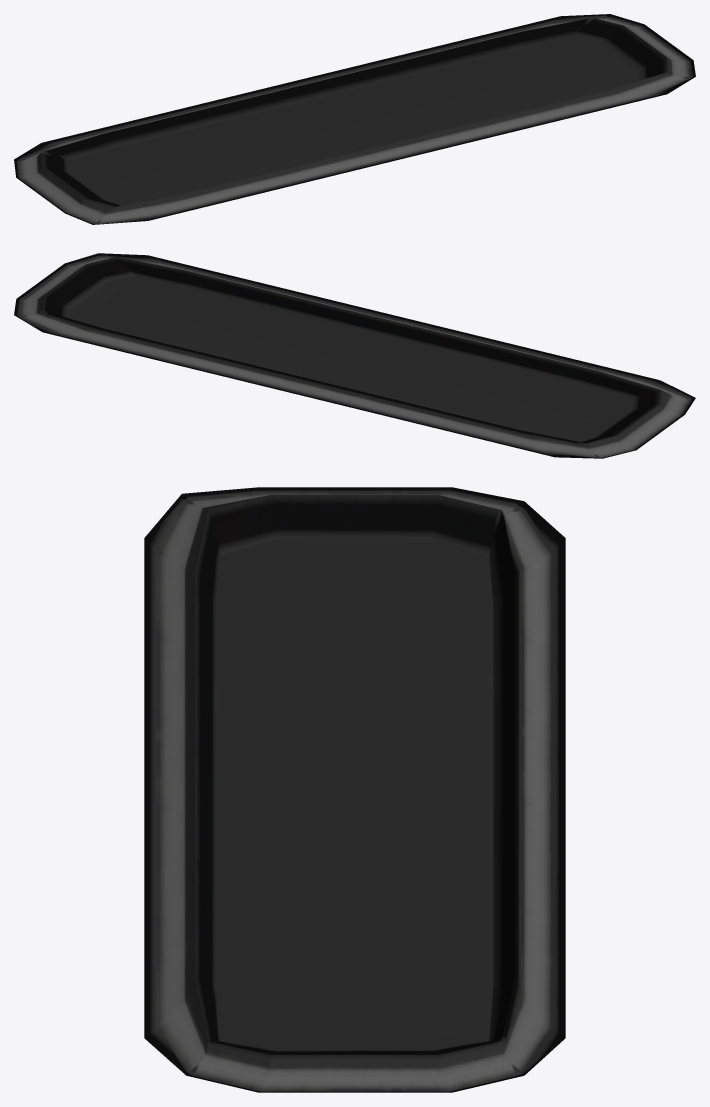
File: Readout.obj
3 renders of one model, top to bottom at view 1: azimuth 30°, elevation 25°; view 2: azimuth 150°, elevation 25°; view 3: azimuth 270°, elevation 25°, orthographic. The views are drawn at different scales.
Visible parts, largest first — view 1: Plane; view 2: Plane; view 3: Plane.
Part boxes in pixels (bbox=[...]): Plane: bbox=[14, 14, 695, 224]; Plane: bbox=[14, 253, 695, 458]; Plane: bbox=[144, 487, 565, 1092].
Size of the model in its own units: 7.22 by 0.1272 by 2.13.
1 material, 1 textured.
